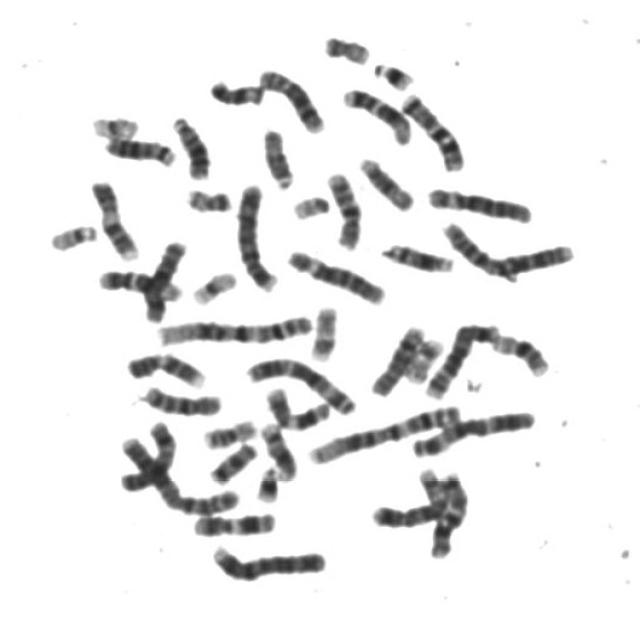A1: (301, 397, 467, 467), (151, 305, 318, 348)
A2: (115, 430, 244, 518), (436, 212, 580, 280)
A3: (240, 349, 362, 416), (405, 402, 541, 458)
B4: (231, 175, 283, 293), (206, 536, 332, 583)
B5: (420, 314, 503, 400), (367, 461, 452, 530)
C10: (320, 163, 368, 252), (137, 378, 226, 418)
C11: (260, 379, 334, 432), (186, 505, 280, 538)
C12: (338, 80, 416, 146), (92, 262, 187, 303)
C6: (280, 240, 390, 306), (422, 178, 537, 225)
C7: (396, 85, 470, 172), (422, 464, 474, 560)
C8: (253, 60, 330, 134), (366, 317, 430, 398)
C9: (83, 172, 144, 262), (120, 344, 210, 389)
D13: (166, 108, 215, 182), (98, 128, 180, 166)
D14: (376, 235, 459, 274), (254, 415, 301, 482)
D15: (353, 148, 420, 212), (256, 120, 299, 191)
E16: (486, 327, 554, 378), (198, 410, 262, 450)
E17: (400, 331, 448, 385), (305, 298, 342, 362)
E18: (204, 435, 262, 486), (204, 72, 270, 108)
F19: (186, 263, 242, 307), (84, 107, 142, 140)
F20: (318, 27, 375, 66), (180, 180, 237, 214)
G21: (369, 54, 420, 92), (251, 458, 283, 504)
G22: (44, 216, 102, 253), (287, 187, 335, 220)
X: (115, 413, 180, 493), (137, 232, 192, 324)
